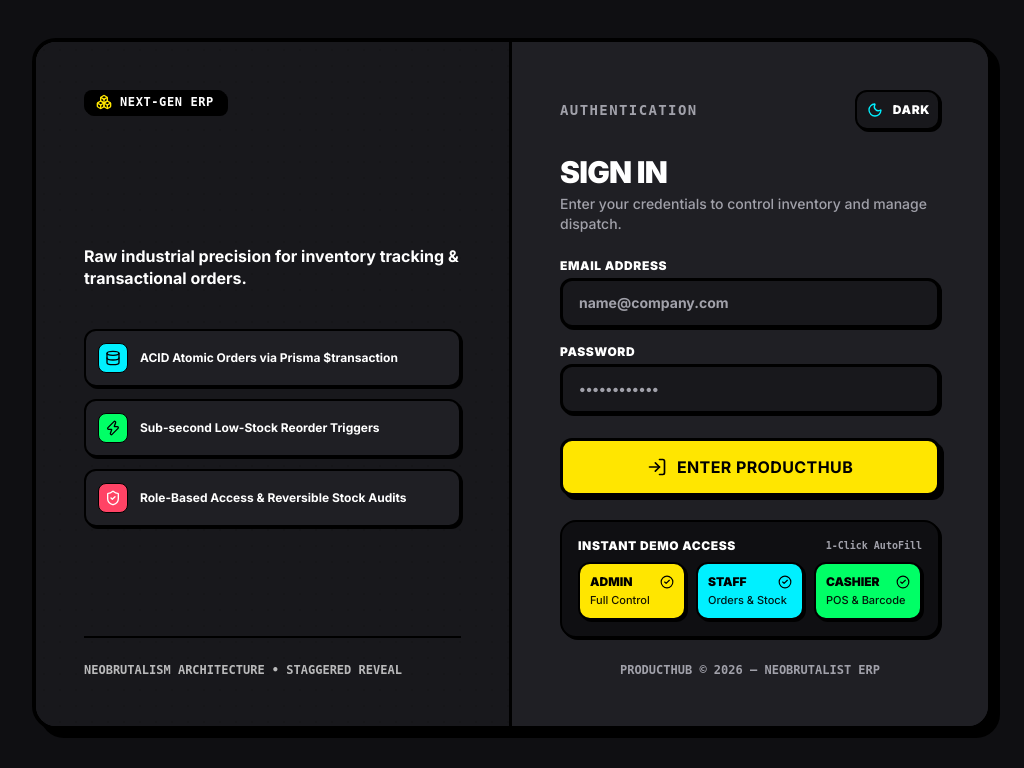
Scenario: LoginPage Component (ProductHub) › fills inputs when Staff demo button is clicked
Click the button "Staff Orders & Stock": (750, 591) [696,562,804,620]
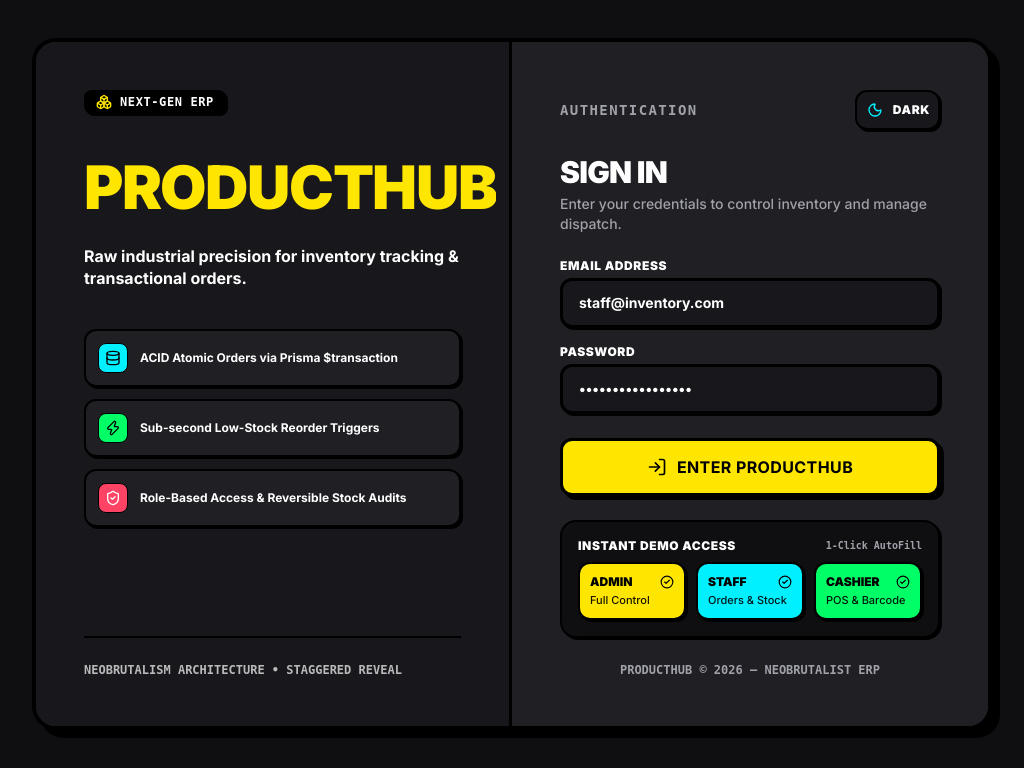
Check: the field with placeholder "name@company.com" holds "staff@inventory.com", box [560,278,940,328]
